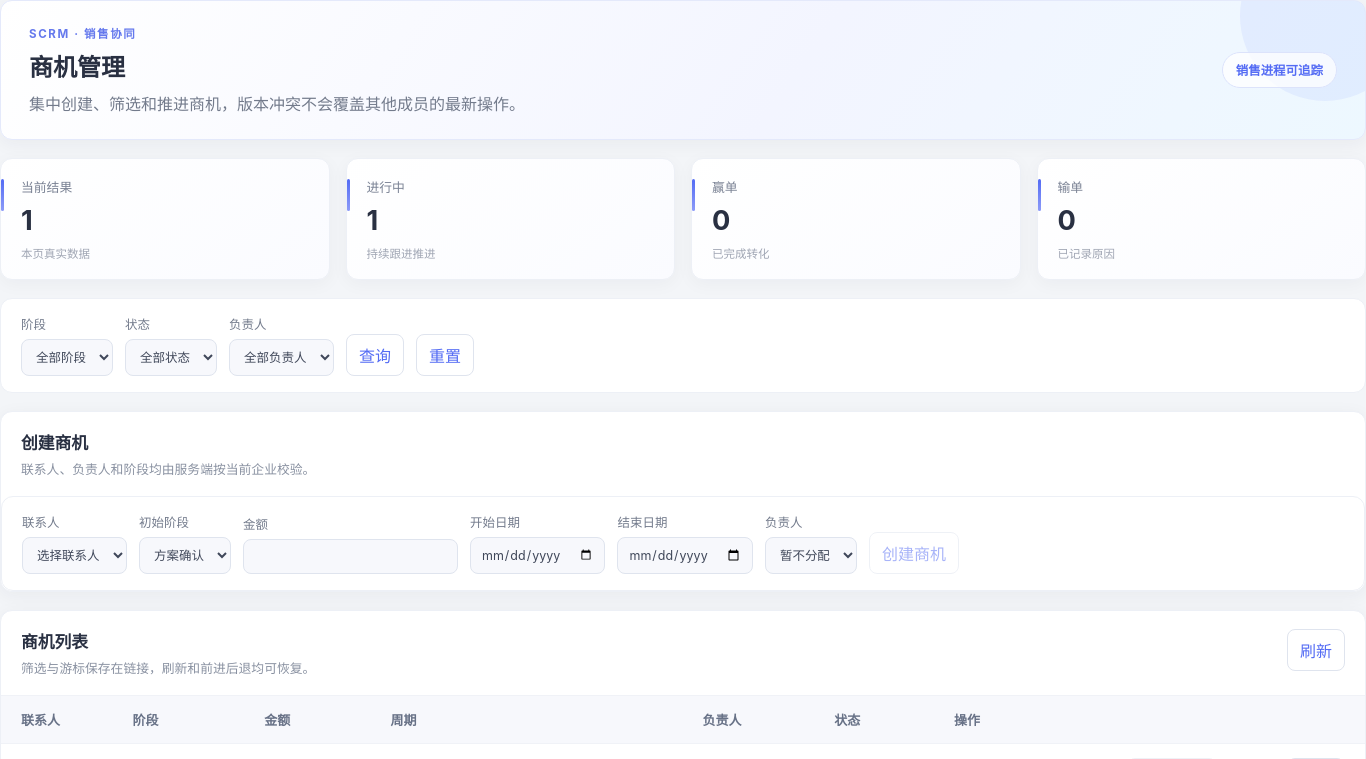
OpportunityPage › creates an opportunity with complete validated fields and refreshes the list
Select "客户乙" in the dropdown named "商机联系人". click: (74, 556)
box: 22,537 -> 127,574
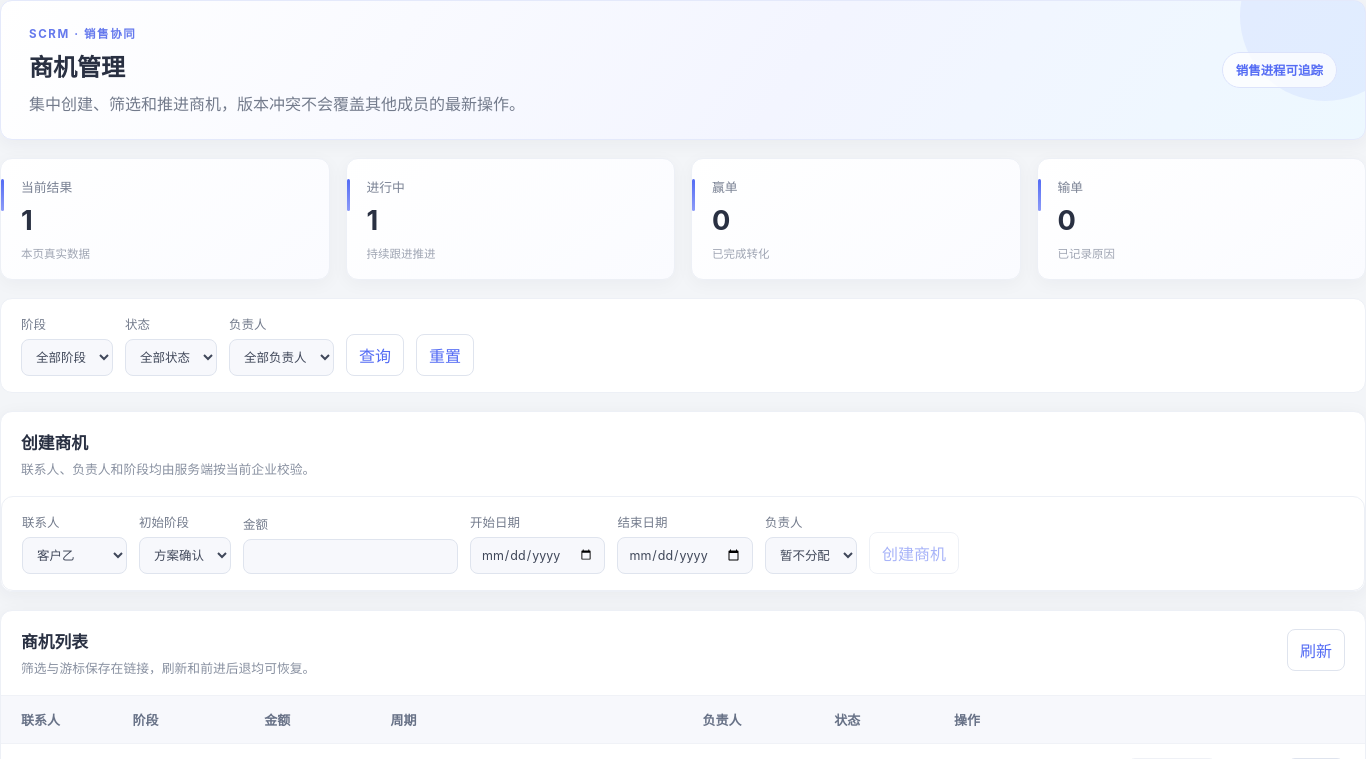
Type "1280.50" into the number field named "商机金额". click: (350, 556)
box: 243,539 -> 458,574
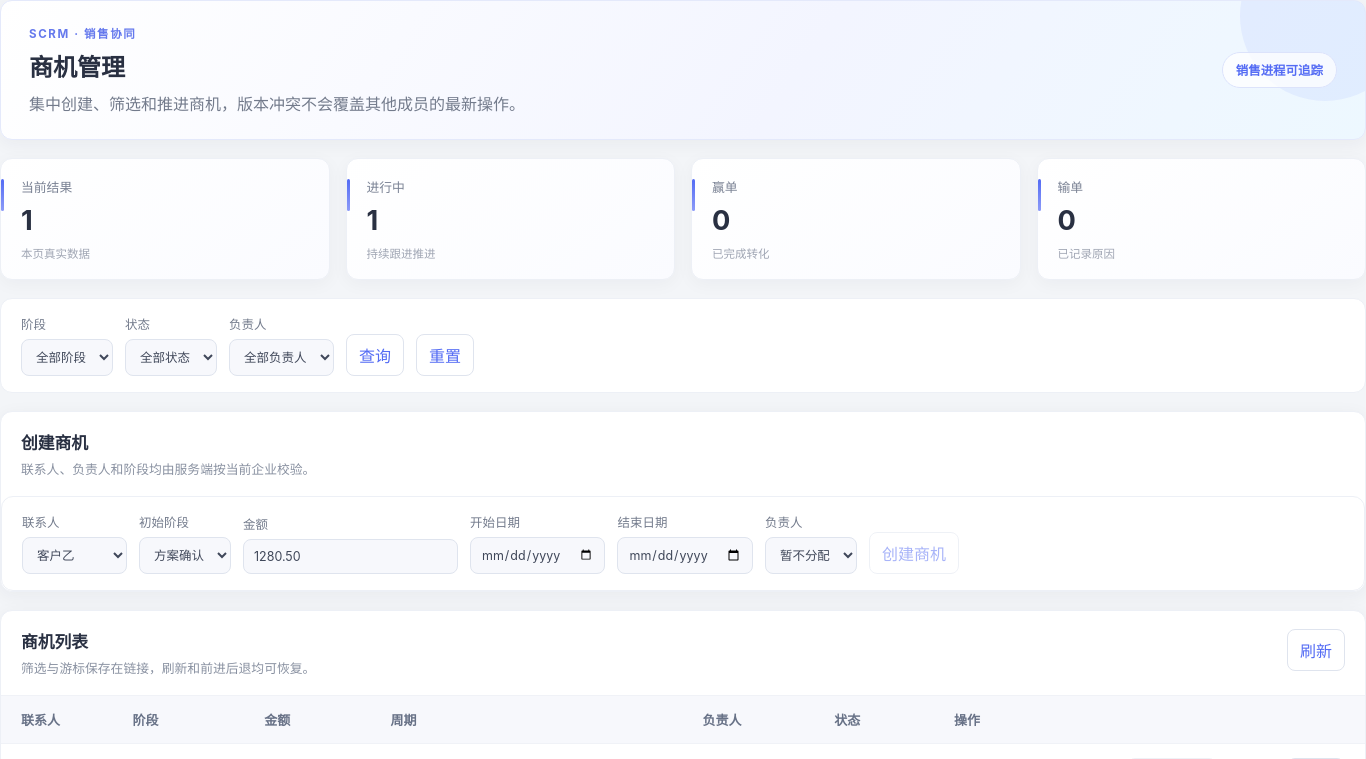
Type "2026-08-02" into the date field labelled "开始日期". click: (538, 556)
box: 470,537 -> 606,574
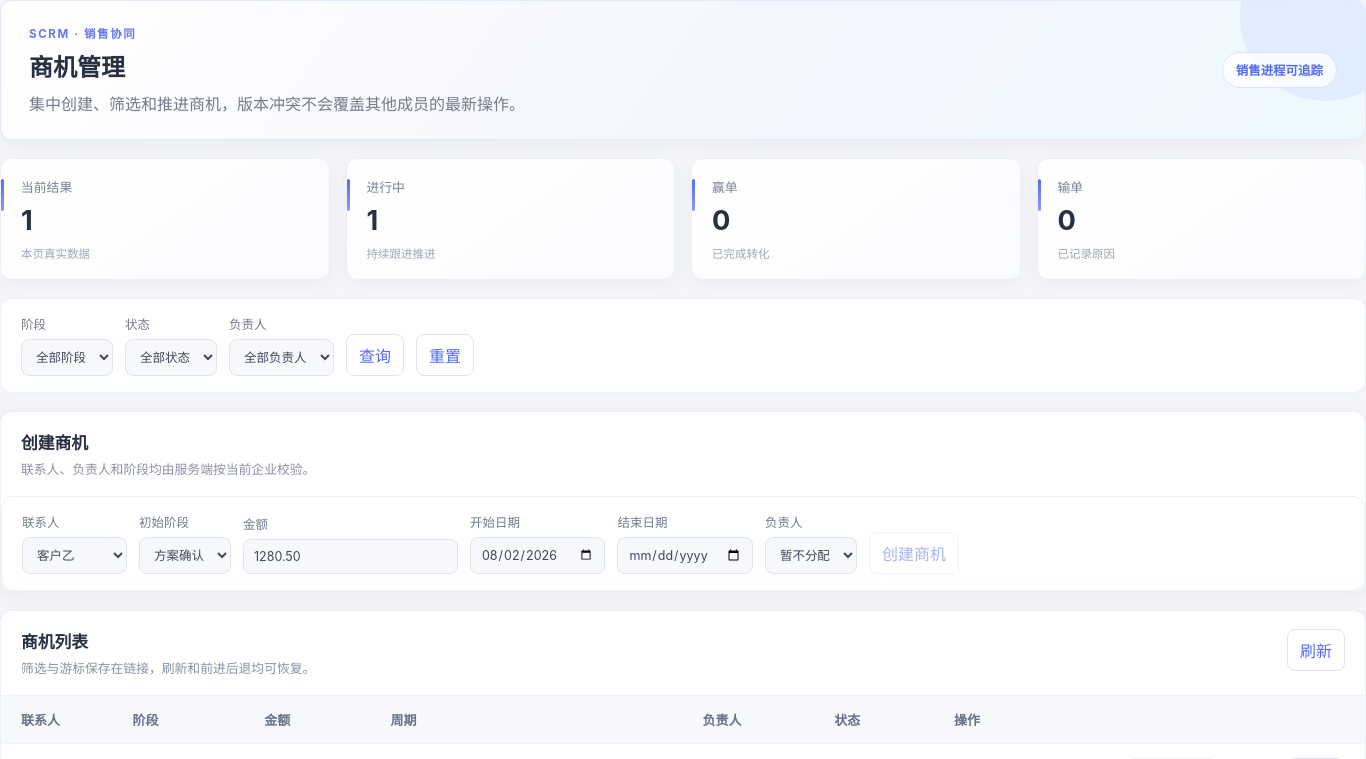
Type "2026-08-20" into the date field labelled "结束日期". click: (685, 556)
box: 618,537 -> 753,574
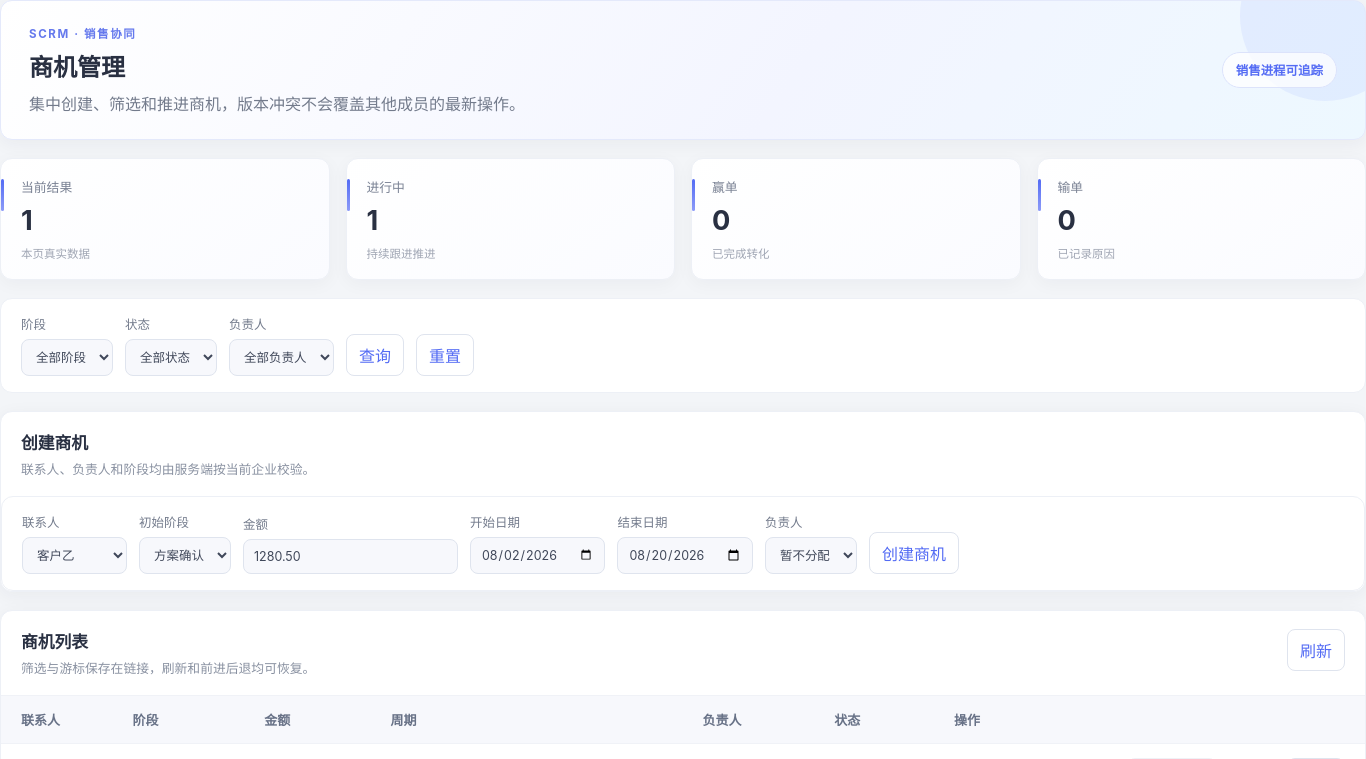
Select "销售小王" in the dropdown named "商机负责人". click: (811, 556)
box: 765,537 -> 857,574
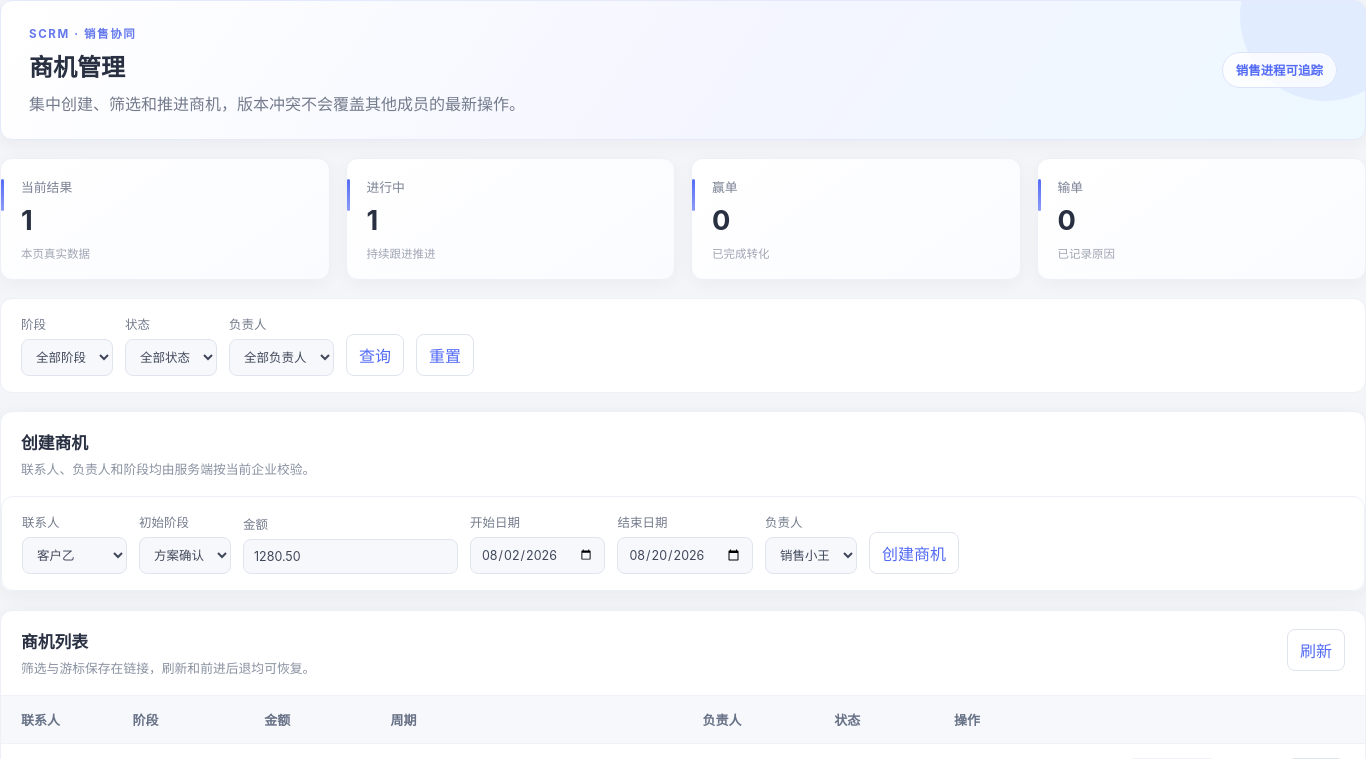
Click the button "创建商机". click: click(914, 553)
box: 869,532 -> 959,574
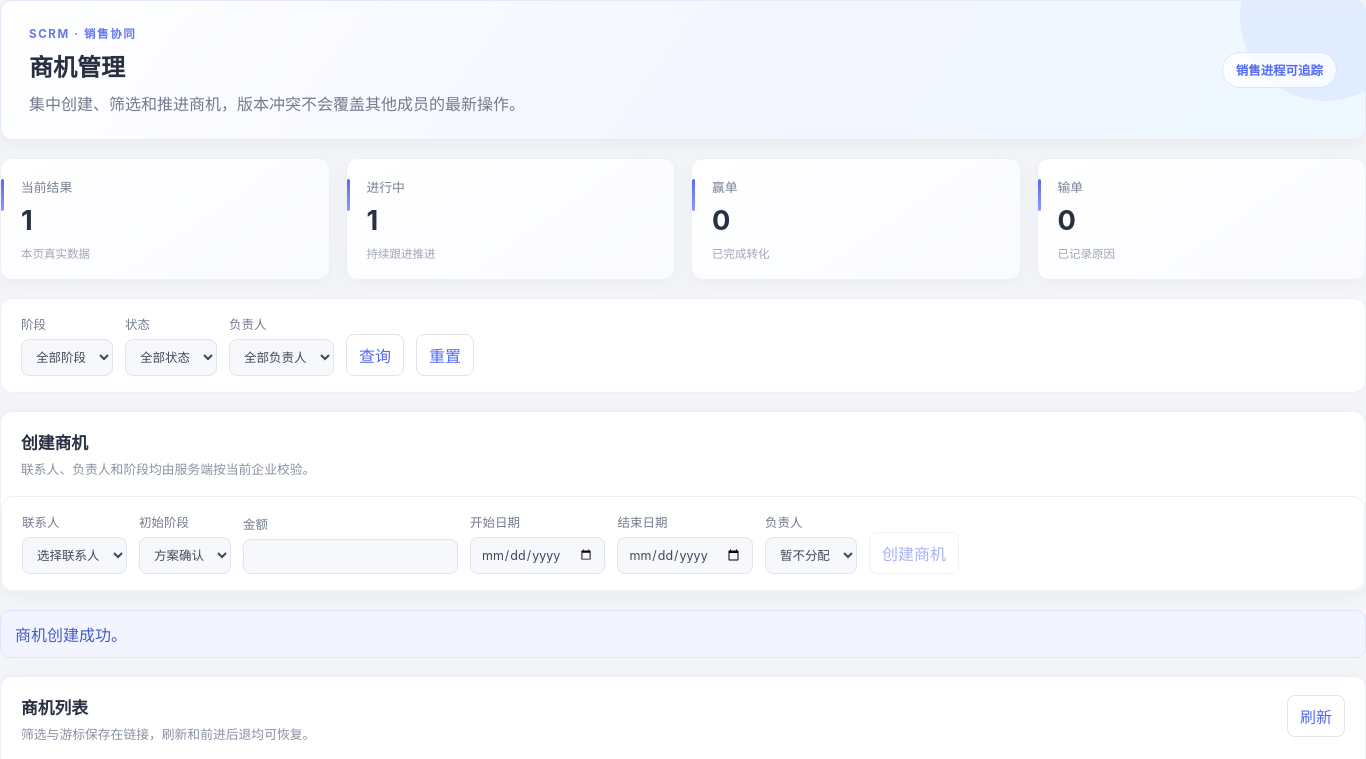
Check: the text "商机创建成功。" is shown, box 0,610 -> 1365,658
